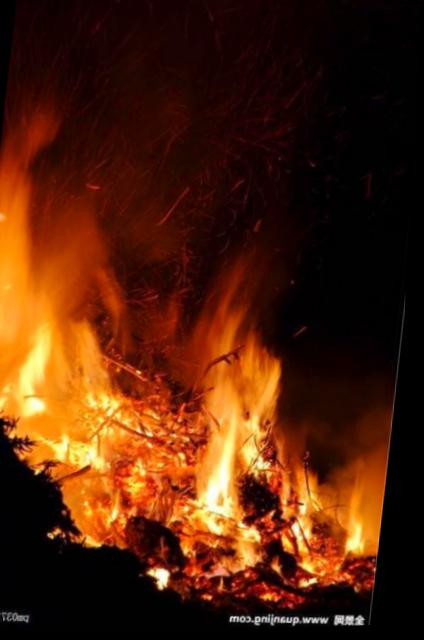fire: (0, 201, 413, 624)
